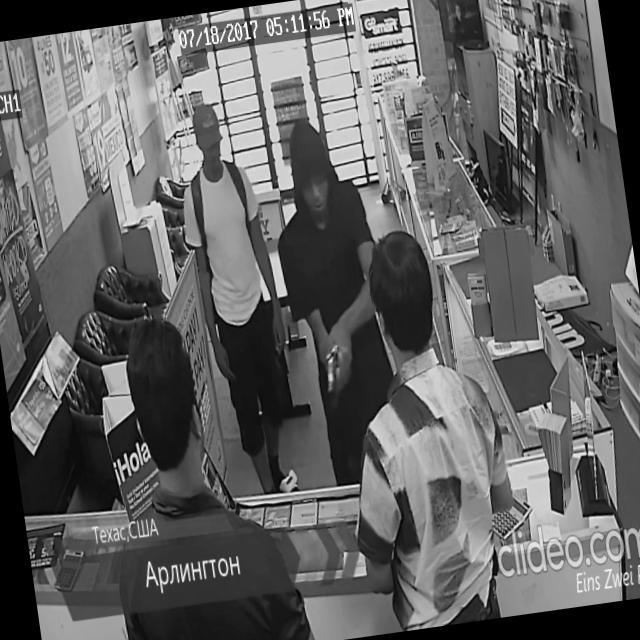gun: (318, 338, 349, 402)
person: (313, 218, 532, 636), (80, 297, 319, 640), (165, 93, 307, 501)
person with a gun: (259, 106, 414, 493)
